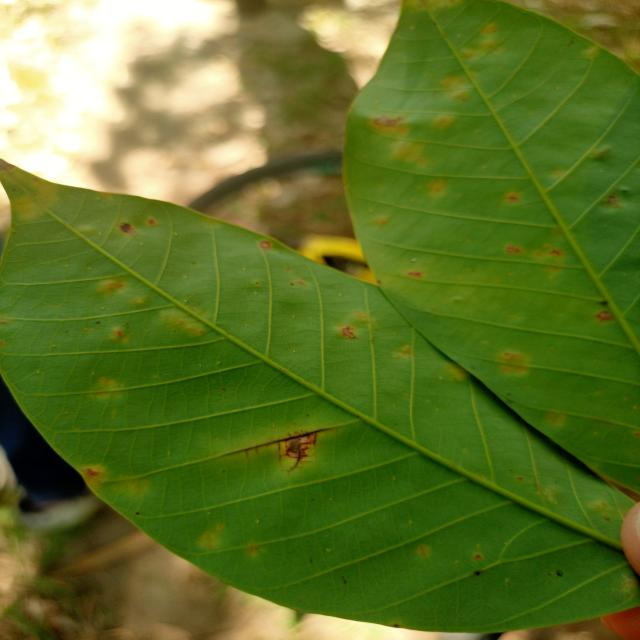Corynespora: (221, 427, 332, 472)
